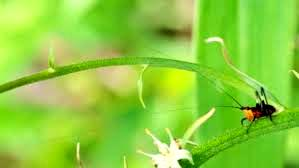Helopeltis-insect: (237, 98, 276, 124)
